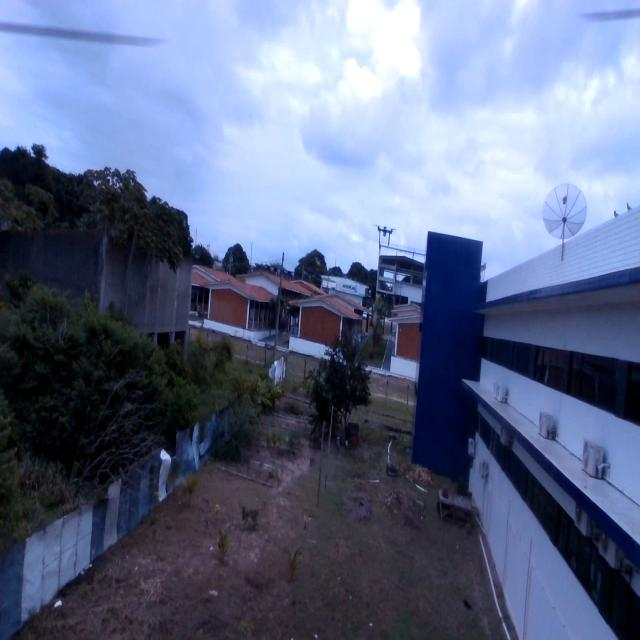-uav-: (374, 218, 394, 256)
